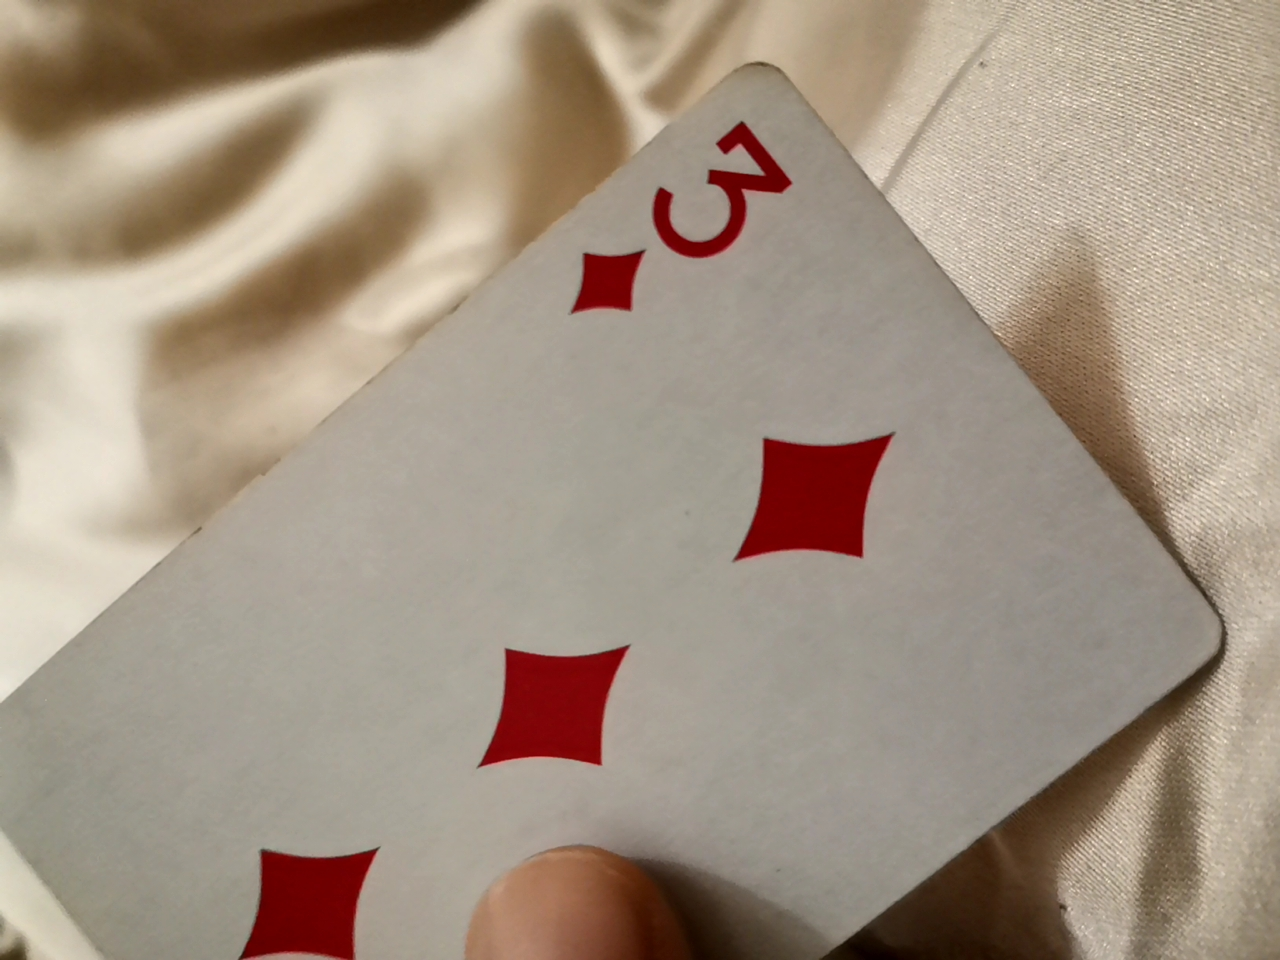fk 3: (22, 77, 1223, 958)
